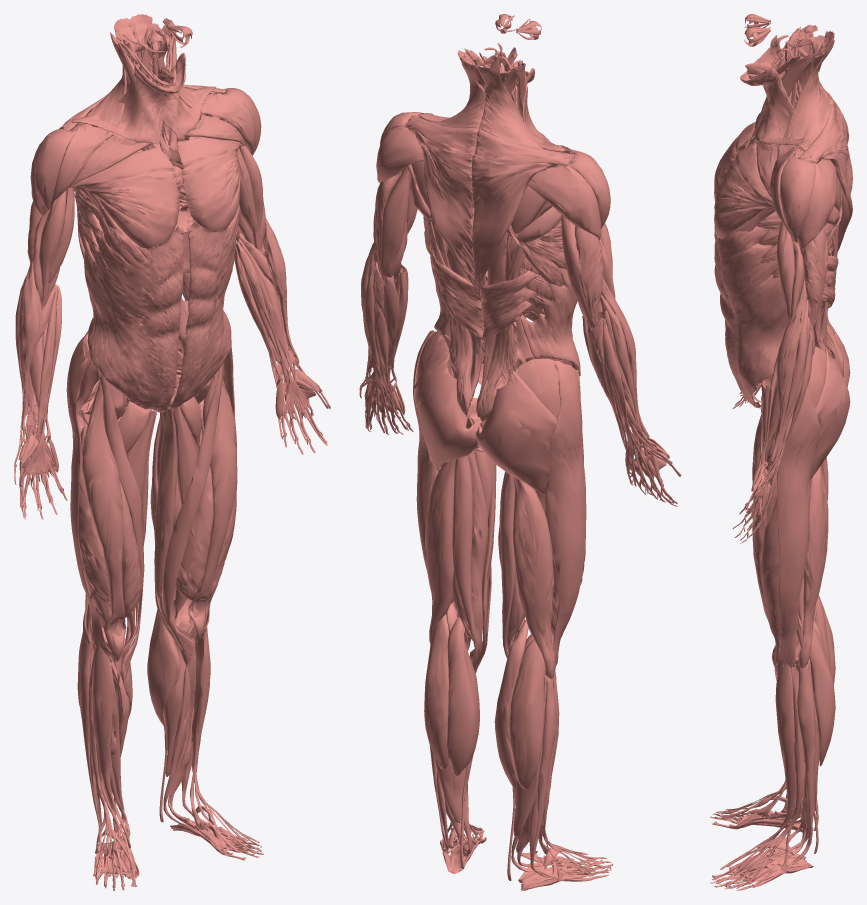
File: muscular.glb
3 views of the same model, side by side, from view 1: azimuth 30°, elevation 25°; view 2: azimuth 150°, elevation 25°; view 3: azimuth 270°, elevation 25° (orthographic).
Visible parts, largest first — view 1: bp3d_FJ1452, bp3d_FJ1452M, bp3d_FJ1464, bp3d_FJ1433, bp3d_FJ1464M, bp3d_FJ1433M, bp3d_FJ1434M, bp3d_FJ1587, bp3d_FJ1423, bp3d_FJ1421M, bp3d_FJ1442, bp3d_FJ1434 (+41 smaller); view 2: bp3d_FJ1423, bp3d_FJ1418, bp3d_FJ1395, bp3d_FJ1520M, bp3d_FJ1520, bp3d_FJ1418M, bp3d_FJ1394, bp3d_FJ1397M, bp3d_FJ1395M, bp3d_FJ1452, bp3d_FJ1436M, bp3d_FJ1394M (+41 smaller); view 3: bp3d_FJ1452M, bp3d_FJ1423M, bp3d_FJ1464M, bp3d_FJ1395M, bp3d_FJ1418M, bp3d_FJ1558, bp3d_FJ1439M, bp3d_FJ1467M, bp3d_FJ1521M, bp3d_FJ1394M, bp3d_FJ1487M, bp3d_FJ1442M (+33 smaller).
Boxes of the visible parts, x1=… form: bp3d_FJ1452: x1=84, y1=216, x2=183, y2=412; bp3d_FJ1452M: x1=168, y1=204, x2=240, y2=409; bp3d_FJ1464: x1=68, y1=146, x2=180, y2=248; bp3d_FJ1433: x1=82, y1=380, x2=126, y2=661; bp3d_FJ1464M: x1=177, y1=137, x2=242, y2=232; bp3d_FJ1433M: x1=188, y1=369, x2=237, y2=641; bp3d_FJ1434M: x1=163, y1=361, x2=224, y2=664; bp3d_FJ1587: x1=71, y1=64, x2=175, y2=144; bp3d_FJ1423: x1=66, y1=333, x2=112, y2=662; bp3d_FJ1421M: x1=154, y1=407, x2=191, y2=639; bp3d_FJ1442: x1=78, y1=425, x2=115, y2=660; bp3d_FJ1434: x1=98, y1=372, x2=144, y2=678; bp3d_FJ1423: x1=544, y1=360, x2=585, y2=671; bp3d_FJ1418: x1=476, y1=370, x2=557, y2=495; bp3d_FJ1395: x1=513, y1=476, x2=555, y2=678; bp3d_FJ1520M: x1=414, y1=131, x2=480, y2=298; bp3d_FJ1520: x1=471, y1=154, x2=557, y2=298; bp3d_FJ1418M: x1=414, y1=355, x2=478, y2=471; bp3d_FJ1394: x1=509, y1=639, x2=545, y2=789; bp3d_FJ1397M: x1=447, y1=616, x2=479, y2=775; bp3d_FJ1395M: x1=425, y1=459, x2=456, y2=644; bp3d_FJ1452: x1=520, y1=268, x2=580, y2=376; bp3d_FJ1436M: x1=452, y1=455, x2=478, y2=666; bp3d_FJ1394M: x1=424, y1=614, x2=448, y2=769; bp3d_FJ1452M: x1=714, y1=225, x2=788, y2=408; bp3d_FJ1423M: x1=776, y1=383, x2=820, y2=675; bp3d_FJ1464M: x1=714, y1=143, x2=773, y2=238; bp3d_FJ1395M: x1=798, y1=464, x2=828, y2=667; bp3d_FJ1418M: x1=810, y1=349, x2=850, y2=479; bp3d_FJ1558: x1=740, y1=69, x2=810, y2=150; bp3d_FJ1439M: x1=757, y1=663, x2=796, y2=851; bp3d_FJ1467M: x1=780, y1=155, x2=815, y2=242; bp3d_FJ1521M: x1=783, y1=40, x2=834, y2=144; bp3d_FJ1394M: x1=809, y1=628, x2=835, y2=766; bp3d_FJ1487M: x1=769, y1=274, x2=806, y2=463; bp3d_FJ1442M: x1=761, y1=497, x2=781, y2=671.
Bounding box in the file's own units: 0.6388 × 1.61 × 0.251.
